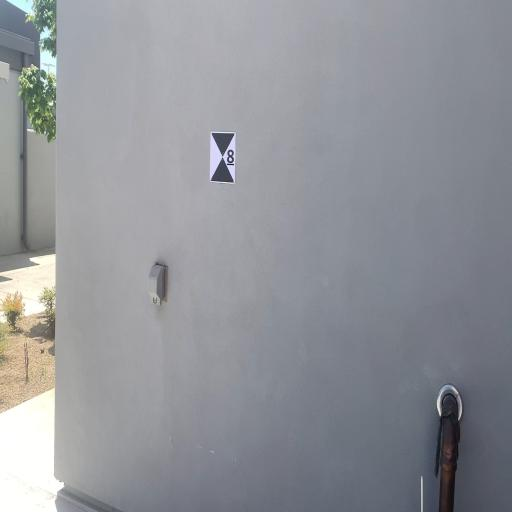target8: (209, 132, 237, 183)
